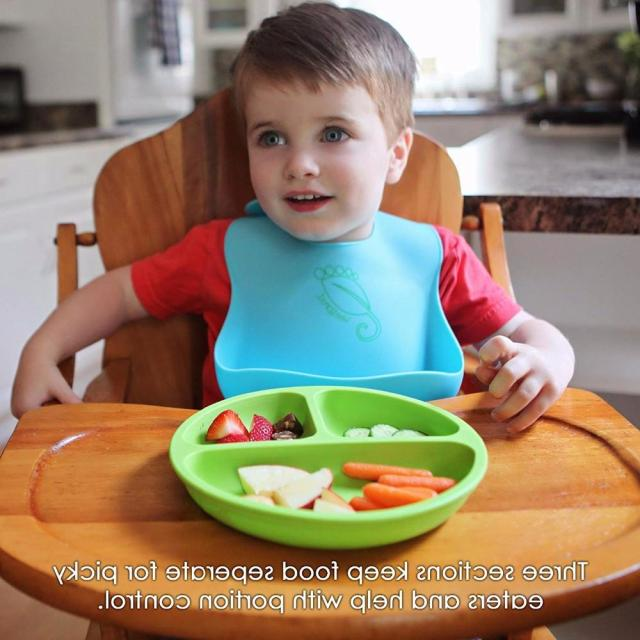child: (4, 1, 578, 423)
